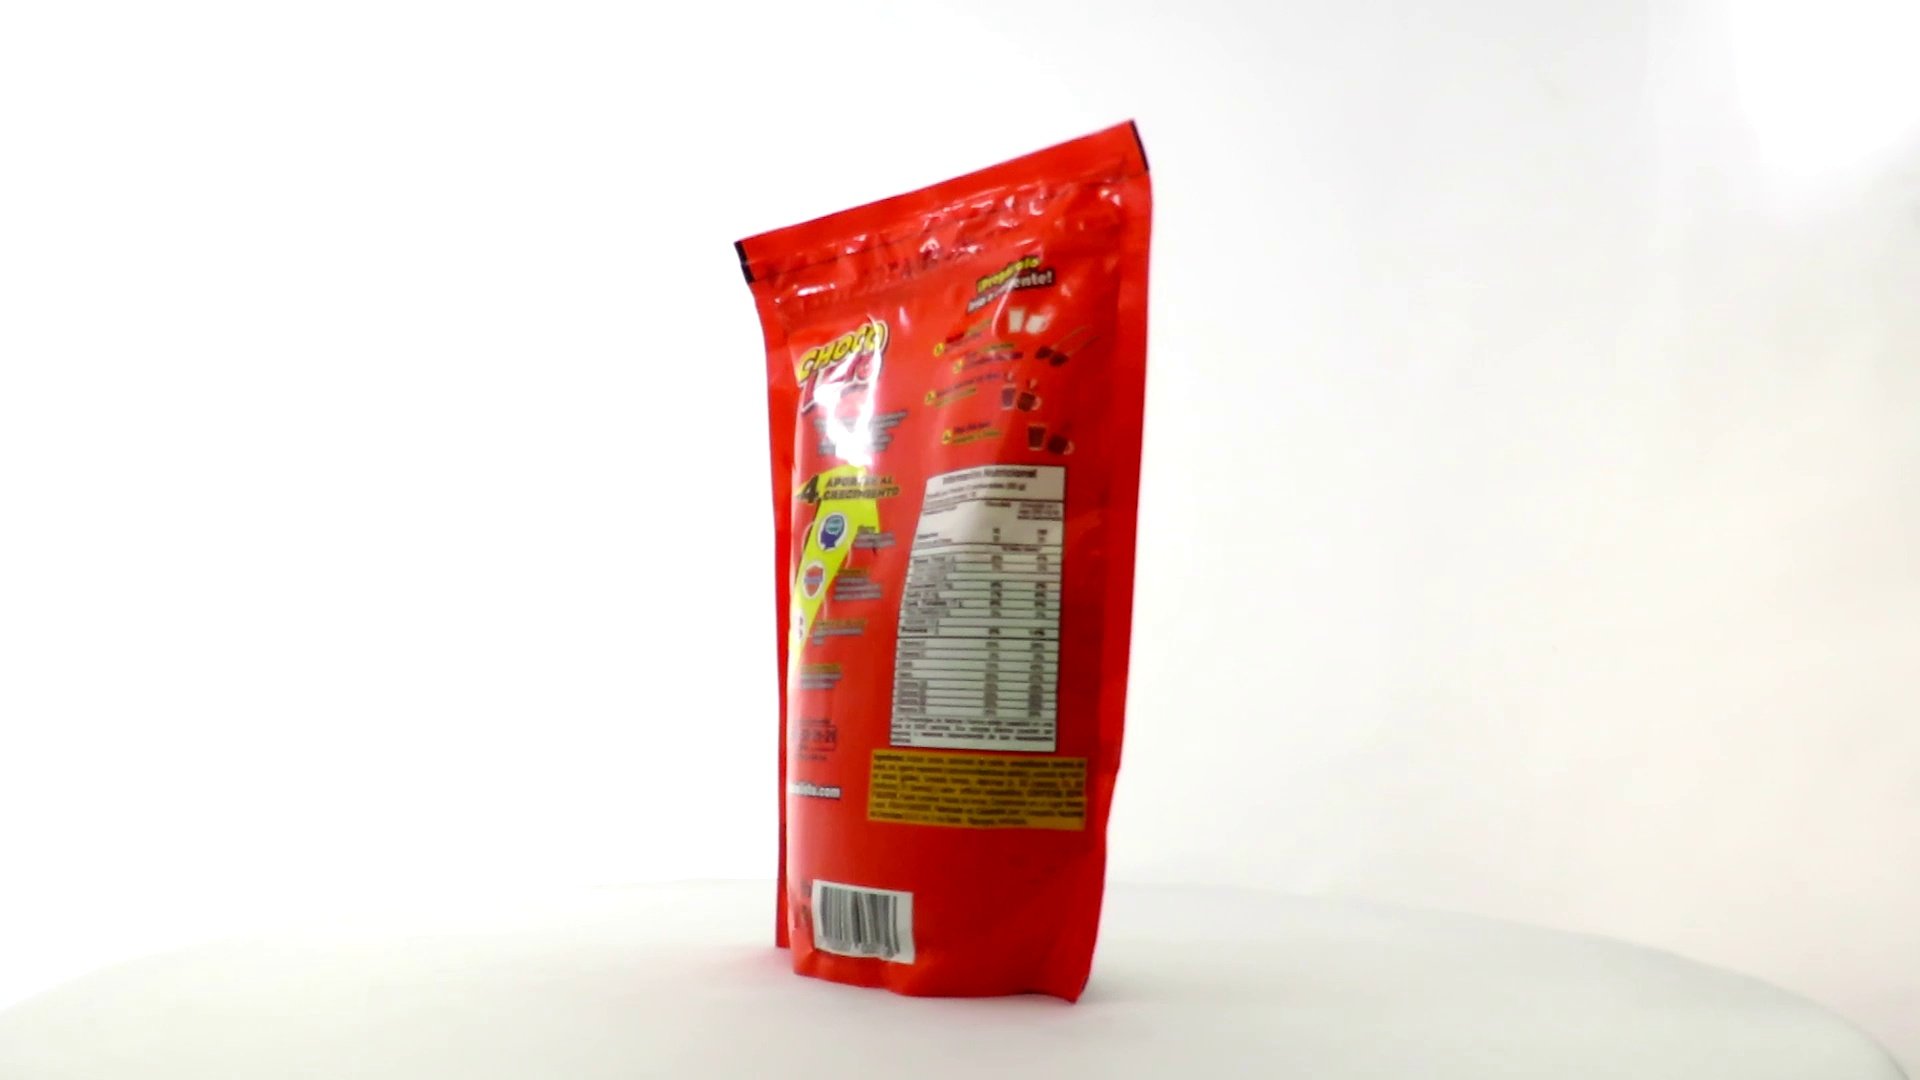COL0170103DYP36000: (729, 115, 1159, 1011)
